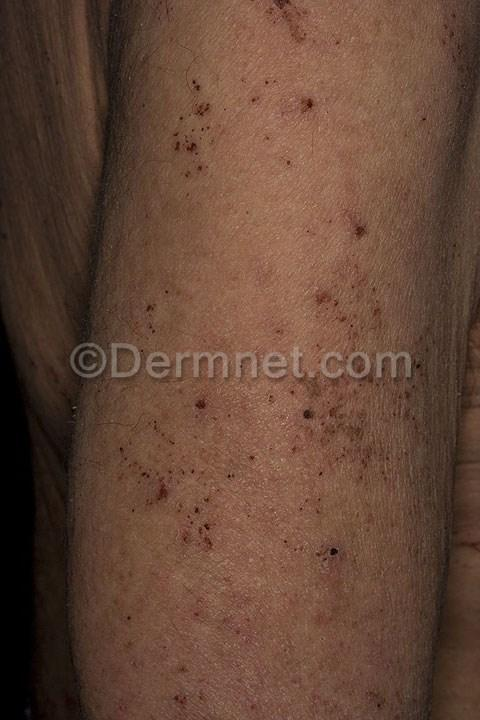exudacion 1: (119, 0, 441, 719)
